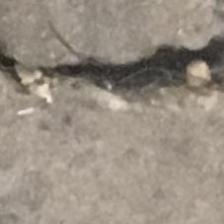Crack: (0, 26, 224, 114)
